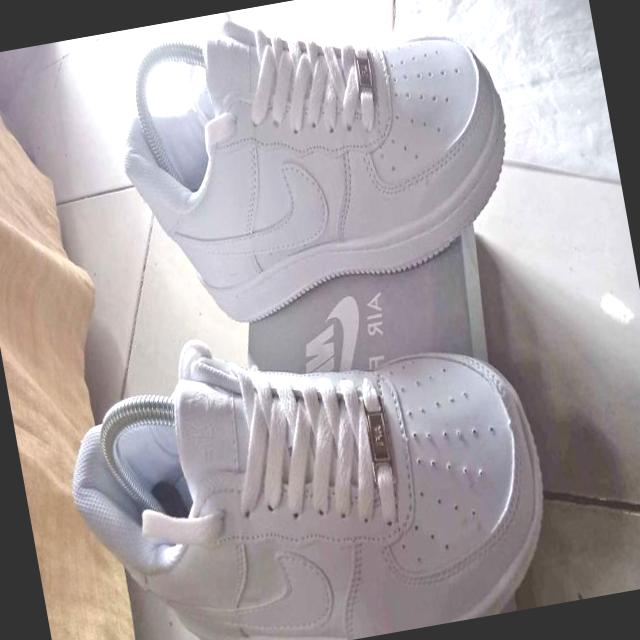nike_fake_airforce: (65, 301, 566, 640), (97, 0, 531, 340)
